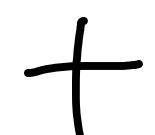plus: (24, 17, 141, 134)
